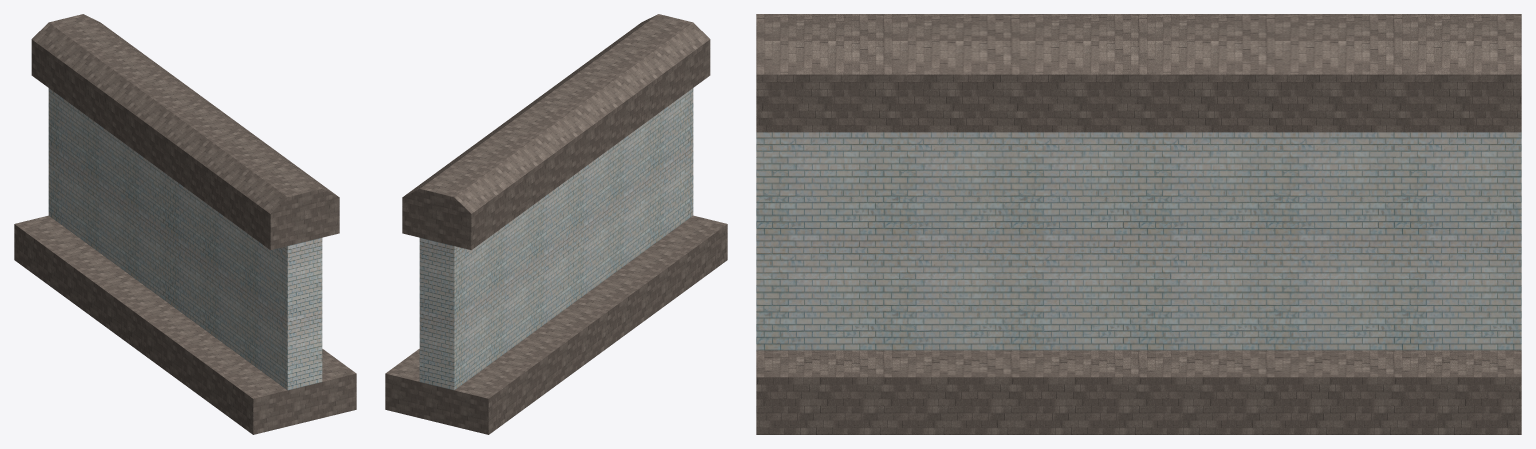
File: Fence.obj
3 renders of one model, left to right at view 1: azimuth 30°, elevation 25°; view 2: azimuth 150°, elevation 25°; view 3: azimuth 270°, elevation 25°, orthographic. The views are drawn at different scales.
Visible parts, largest first — view 1: Fence; view 2: Fence; view 3: Fence.
Part boxes in pixels (left/top/right/bottom): Fence: left=14, top=14, right=356, bottom=434; Fence: left=385, top=14, right=727, bottom=434; Fence: left=756, top=14, right=1521, bottom=434.
Size of the model in its own units: 1.5 by 3.18 by 6.
Materials: 2 (2 with a texture image).
